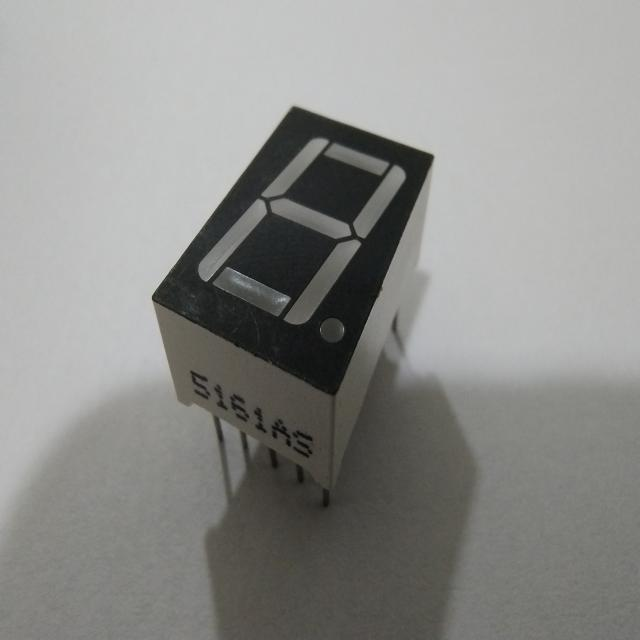7_segments: (143, 100, 444, 527)
